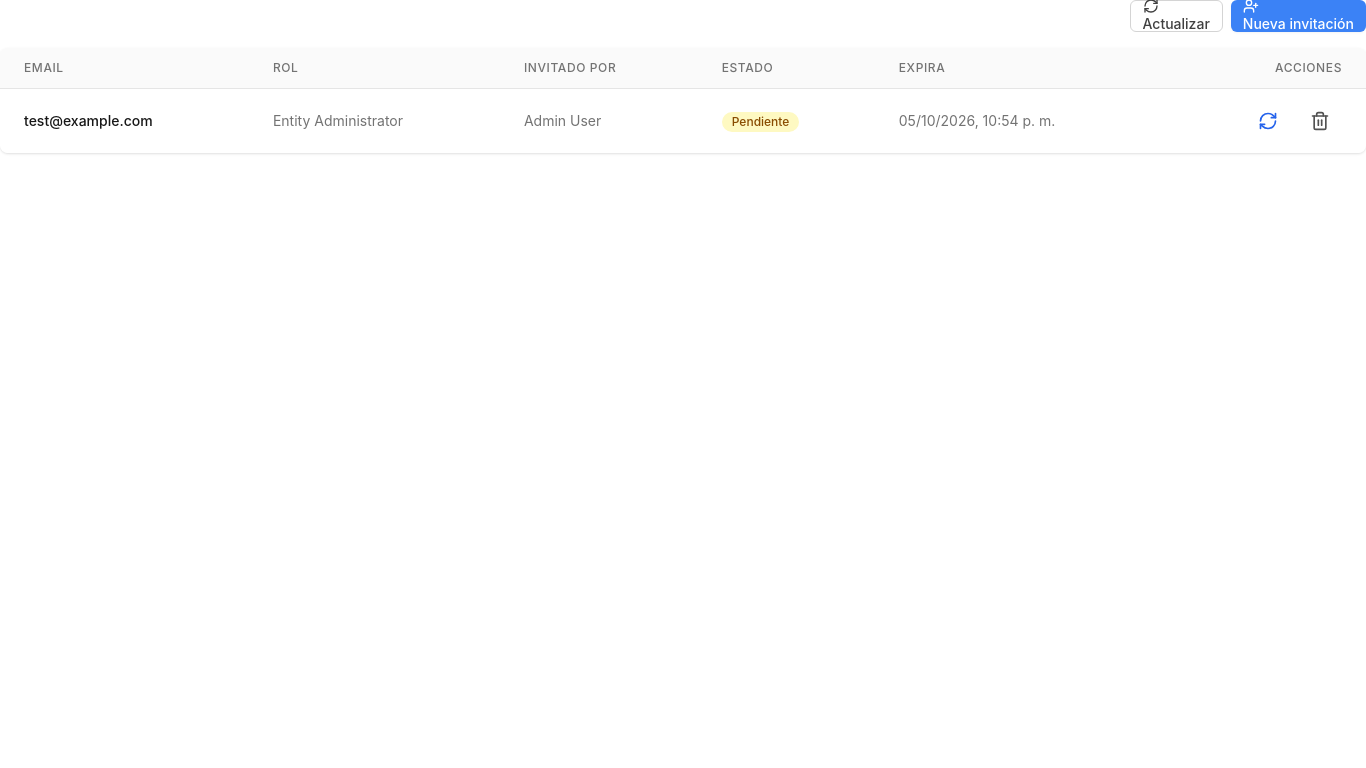
Test: InvitationTableContainer › create invitation › should open modal when clicking create button
Note: Click create button
Click the button with test id "create-invitation-button" at x=1298, y=16, box [1231,0,1365,32]
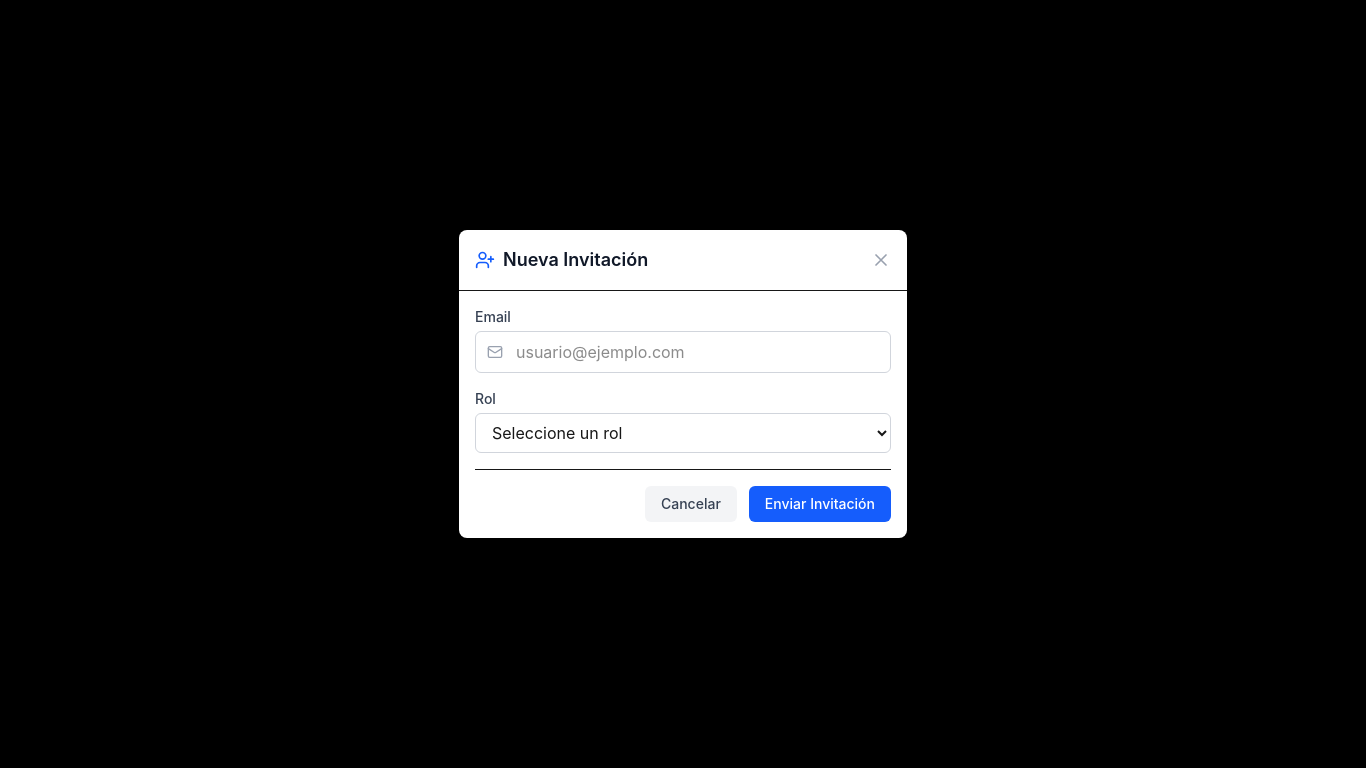
Now the element with test id "create-invitation-modal" is shown
